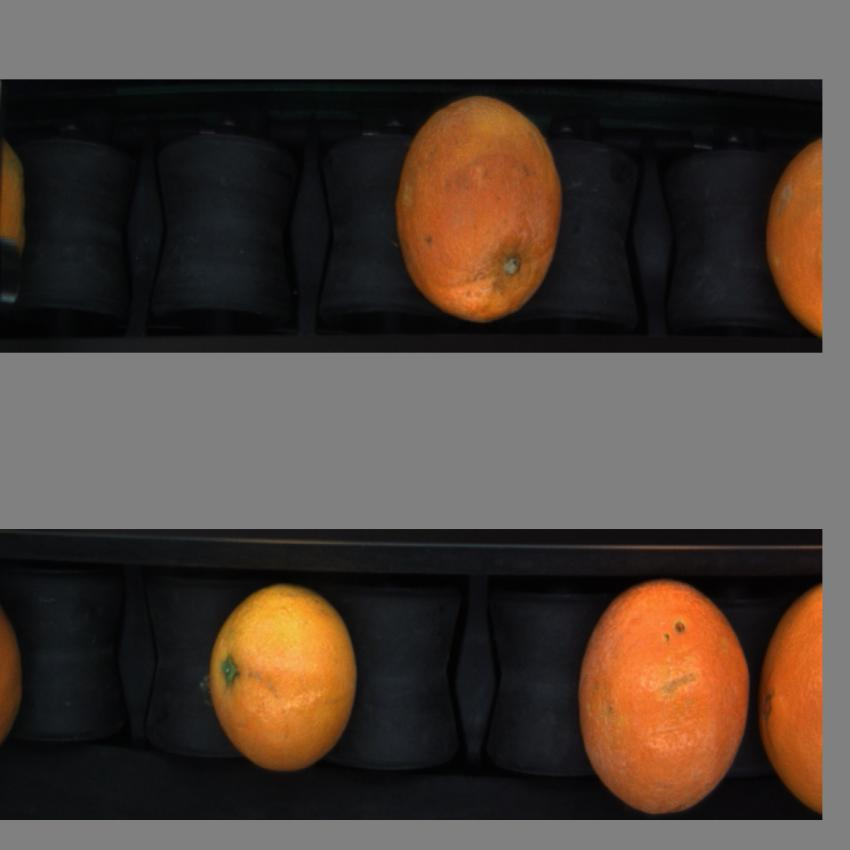Buen estado: (572, 567, 750, 822), (205, 573, 376, 791), (758, 580, 822, 812), (762, 126, 825, 346)
Mal estado: (391, 87, 563, 326)
